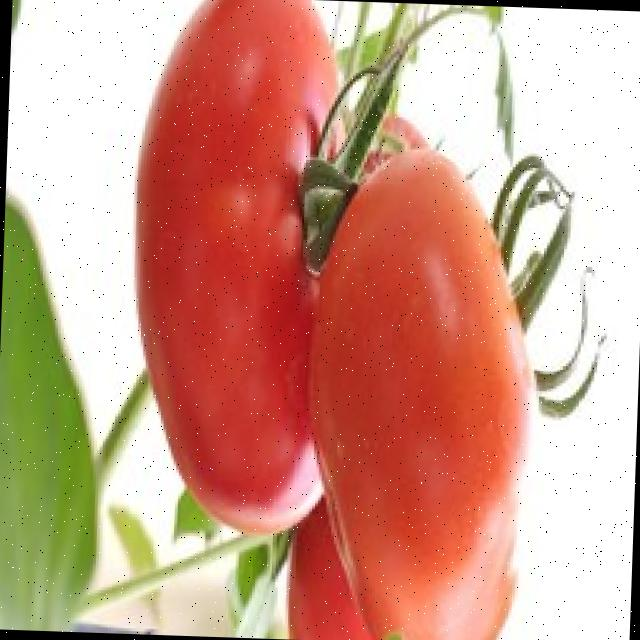tomato: (309, 150, 533, 640), (137, 0, 336, 533)
